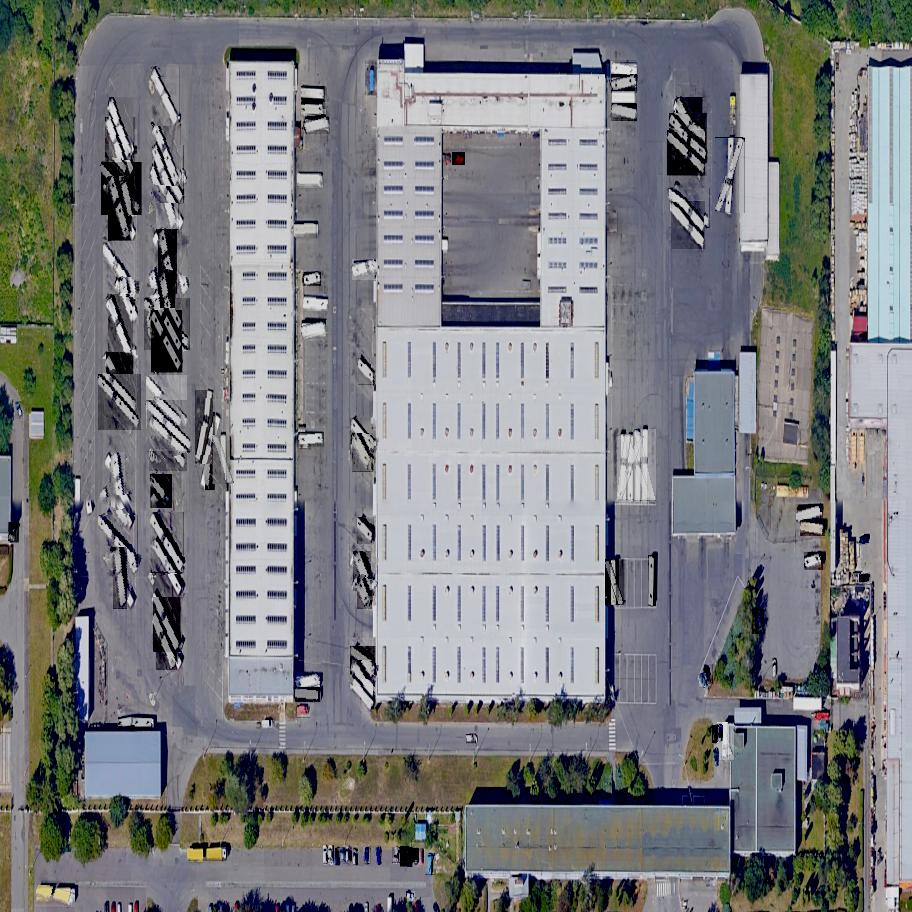large-vehicle: (93, 374, 144, 430), (141, 298, 195, 350), (142, 401, 195, 453), (142, 376, 192, 430), (97, 162, 146, 215), (94, 515, 142, 569), (145, 416, 191, 471), (148, 512, 188, 573), (715, 138, 747, 214), (100, 242, 142, 299), (148, 310, 185, 373), (665, 114, 711, 163), (149, 146, 188, 203), (104, 352, 137, 418), (662, 131, 709, 177), (103, 117, 139, 177), (151, 539, 187, 597), (668, 201, 710, 249), (152, 122, 183, 187), (106, 295, 136, 361), (151, 591, 183, 652), (149, 67, 182, 126), (623, 435, 652, 501), (665, 189, 713, 228), (107, 97, 136, 160), (617, 436, 644, 501), (107, 177, 133, 243), (155, 164, 180, 230), (674, 97, 706, 148), (634, 429, 656, 501), (195, 390, 215, 463), (155, 611, 179, 671), (157, 229, 179, 293), (346, 418, 380, 454), (159, 270, 177, 332), (616, 434, 632, 502), (213, 435, 235, 484), (349, 434, 376, 473), (345, 646, 380, 676), (349, 661, 377, 698), (605, 559, 627, 606), (35, 885, 77, 909), (348, 678, 377, 712), (148, 474, 176, 508), (111, 452, 127, 510), (113, 495, 138, 531), (113, 548, 128, 608), (351, 552, 373, 591), (205, 413, 216, 490), (717, 722, 735, 762), (354, 517, 380, 544), (355, 358, 379, 385), (352, 259, 380, 282), (355, 577, 375, 609), (119, 278, 133, 322), (302, 320, 329, 341), (303, 114, 331, 134), (796, 504, 824, 524), (612, 74, 639, 94), (295, 673, 322, 692), (611, 103, 638, 122), (188, 848, 227, 861), (611, 61, 638, 78), (302, 296, 329, 312), (297, 432, 324, 448), (804, 552, 826, 571), (801, 521, 827, 537), (119, 717, 152, 729), (295, 688, 320, 703), (648, 555, 655, 606), (301, 102, 324, 116), (294, 224, 316, 238), (302, 87, 325, 100), (302, 273, 322, 287), (298, 174, 321, 186), (613, 91, 635, 103)
small-vehicle: (752, 609, 765, 635), (9, 522, 20, 544), (703, 664, 715, 684), (425, 854, 436, 875), (401, 846, 411, 867), (452, 152, 466, 166), (296, 705, 310, 718), (363, 847, 373, 864), (15, 401, 24, 419), (261, 721, 274, 733), (393, 846, 402, 863), (713, 748, 721, 767), (376, 846, 383, 866), (859, 534, 871, 545), (408, 847, 414, 867), (412, 848, 420, 863), (406, 891, 417, 901), (713, 725, 719, 743), (699, 674, 706, 687), (860, 574, 871, 582), (718, 725, 723, 741), (329, 846, 334, 862), (772, 658, 776, 677), (467, 735, 476, 743), (353, 848, 357, 865), (335, 848, 338, 865), (324, 846, 327, 863), (347, 847, 350, 863), (341, 847, 344, 861), (420, 849, 422, 865)
